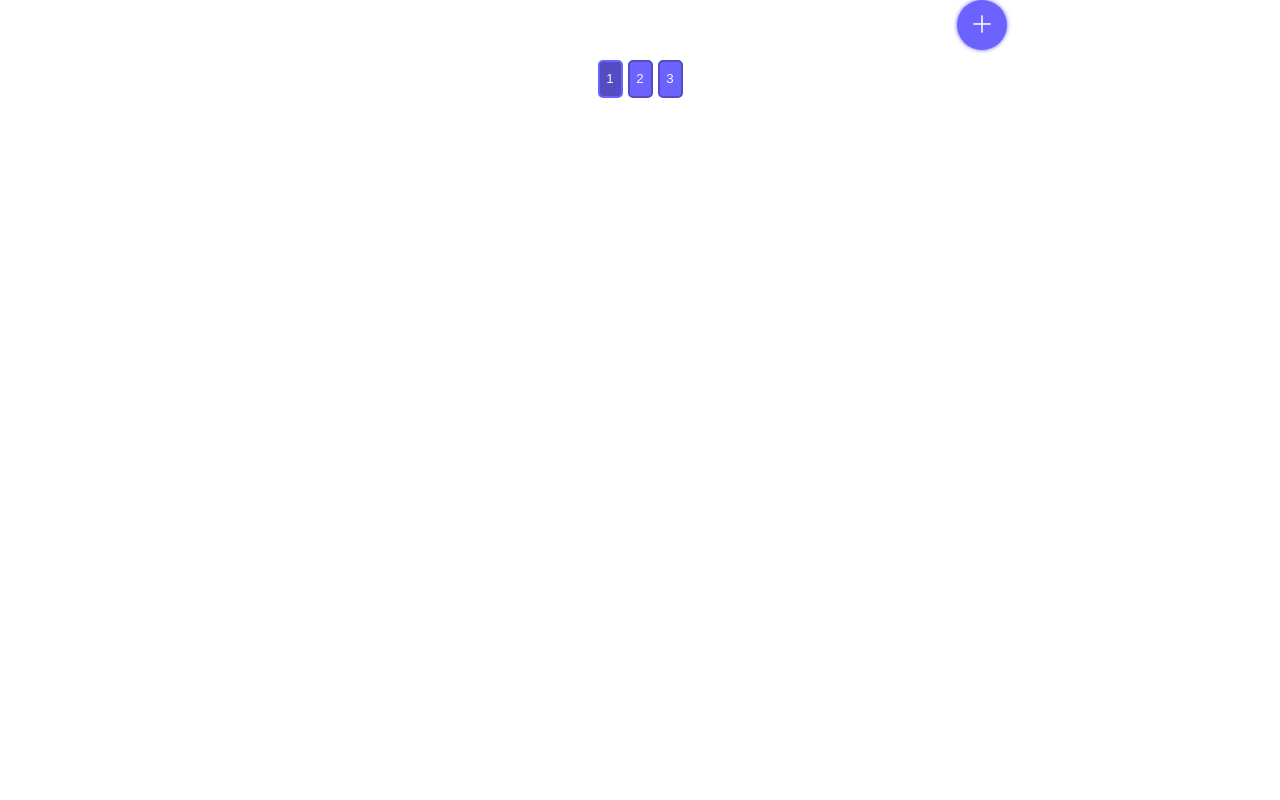
Test: Footer component › open modal when add button is clicked
Expected: the element with test id "location-display" does not show "creationModal=true"
Click the button "＋" at (982, 25), box top-left (957, 0), bottom-right (1007, 50)
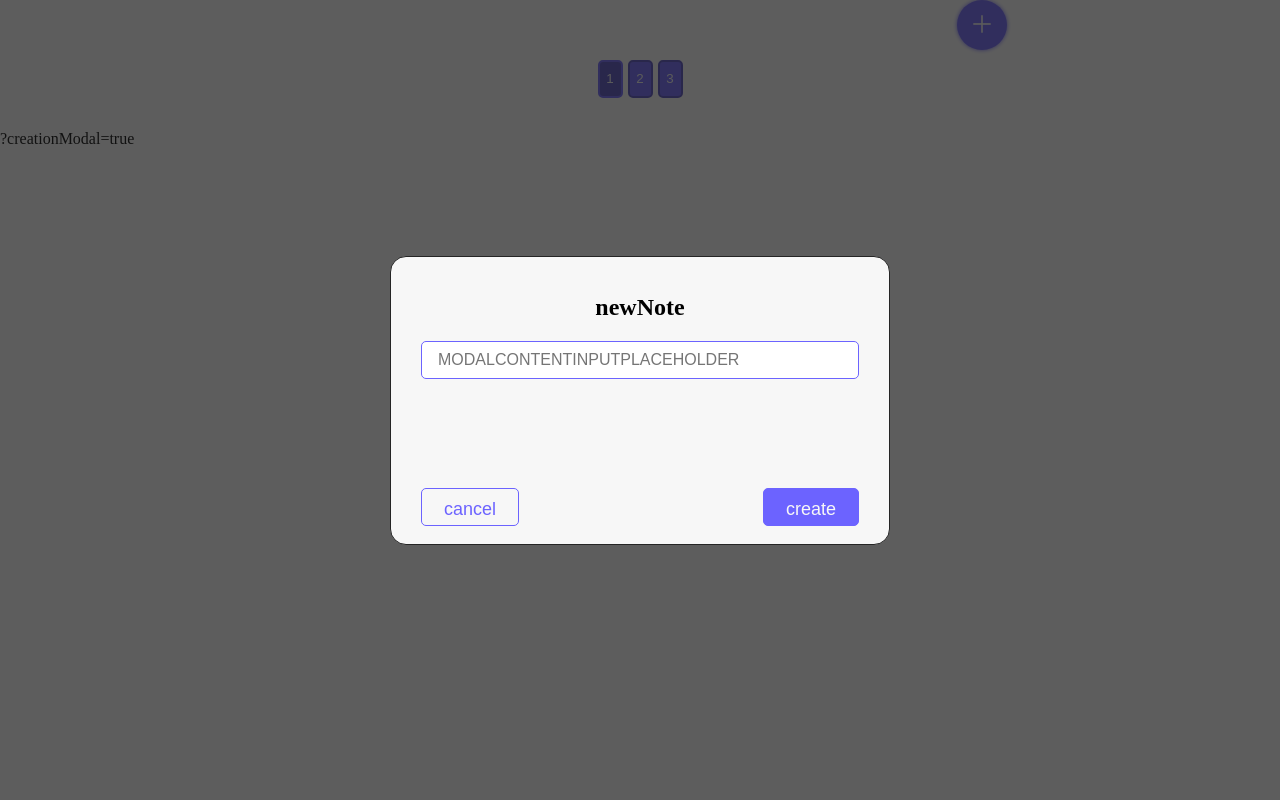
Expected: the text with test id "location-display" shows "creationModal=true", top-left (0, 130), bottom-right (134, 146)
